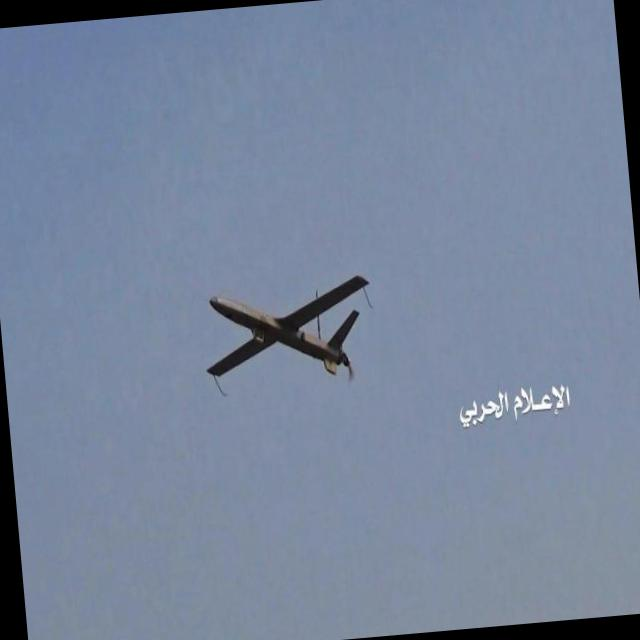UAV: (201, 248, 384, 400)
